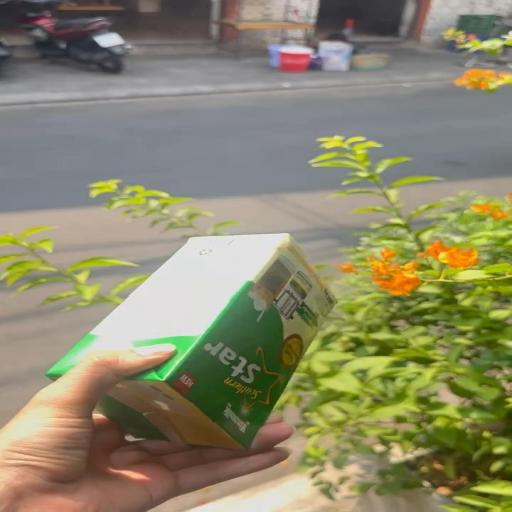ly_giay: (46, 234, 336, 450)
